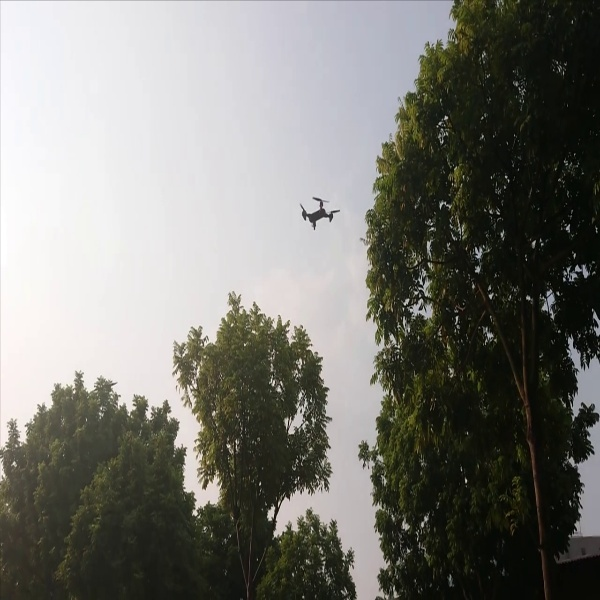drone: (289, 192, 346, 236)
